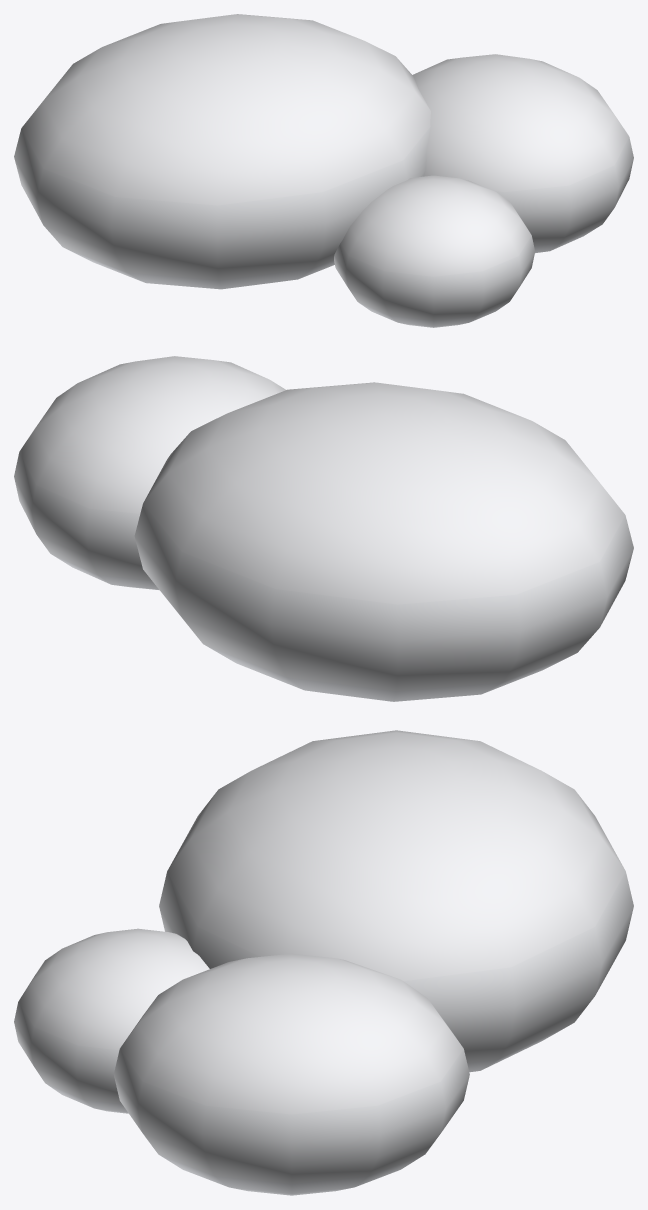
The model's file is bush-54_col.fbx.
The picture shows the model from 3 angles, top to bottom: view 1: azimuth 30°, elevation 25°; view 2: azimuth 150°, elevation 25°; view 3: azimuth 270°, elevation 25°; orthographic projection. The views are drawn at different scales.
Parts seen in each view (by area): view 1: bush-54.col; view 2: bush-54.col; view 3: bush-54.col.
Part boxes in pixels (x1,y1,x2,y2): bush-54.col: (14,14,633,327); bush-54.col: (14,356,633,701); bush-54.col: (14,730,633,1195).
Bounding box in the file's own units: 0.4055 × 0.1595 × 0.3343.
Materials: 1 (1 with a texture image).
